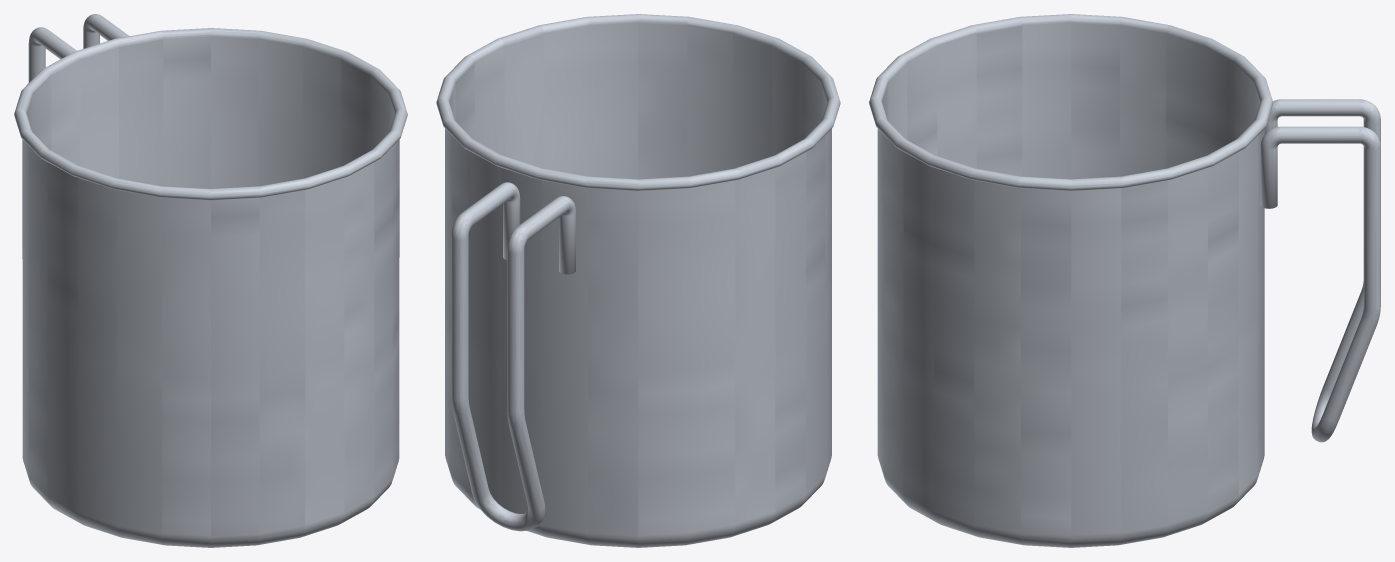
The picture shows the model from 3 angles, left to right: view 1: azimuth 30°, elevation 25°; view 2: azimuth 150°, elevation 25°; view 3: azimuth 270°, elevation 25°; orthographic projection. The views are drawn at different scales.
Parts seen in each view (by area): view 1: mesh1_mesh1-geometry, mesh3_mesh3-geometry; view 2: mesh1_mesh1-geometry, mesh3_mesh3-geometry; view 3: mesh1_mesh1-geometry, mesh3_mesh3-geometry.
Part boxes in pixels (x1,y1,x2,y2): mesh1_mesh1-geometry: (14,28,407,547); mesh3_mesh3-geometry: (28,14,129,82); mesh1_mesh1-geometry: (436,14,840,547); mesh3_mesh3-geometry: (451,182,575,531); mesh1_mesh1-geometry: (869,14,1273,547); mesh3_mesh3-geometry: (1260,99,1380,442).
Bounding box in the file's own units: 0.5229 × 0.5368 × 0.6622.
Materials: 2 (2 with a texture image).
